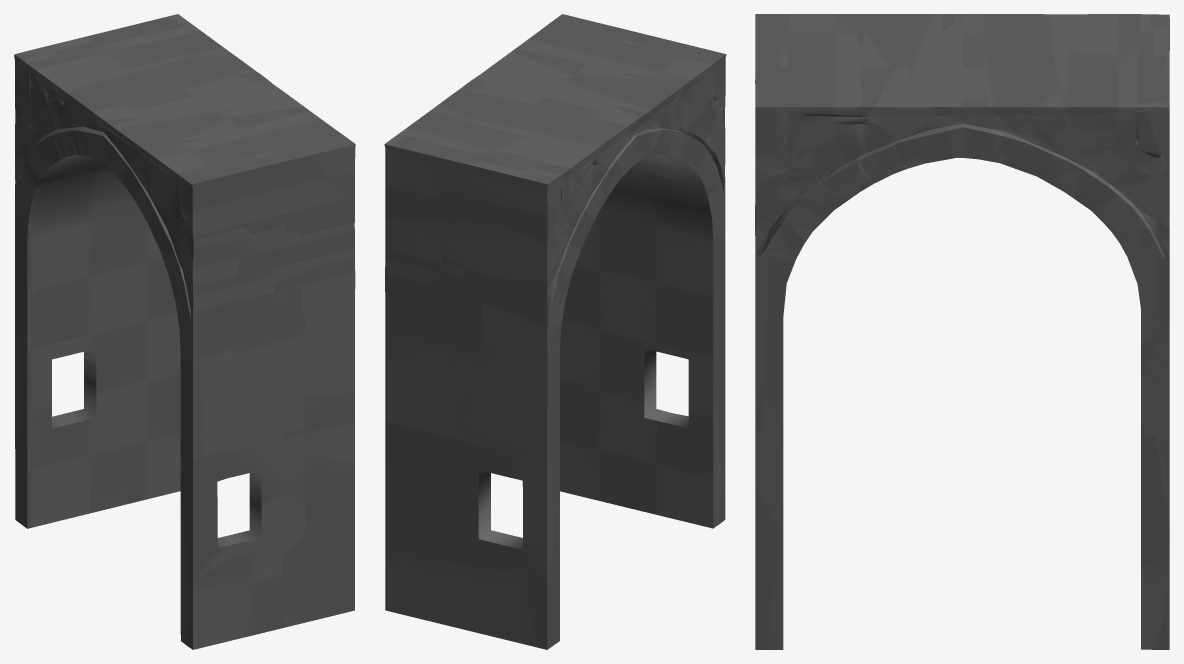
The model's file is SM_GongMen04_1269b7.glb.
3 renders of one model, left to right at view 1: azimuth 30°, elevation 25°; view 2: azimuth 150°, elevation 25°; view 3: azimuth 270°, elevation 25°, orthographic. The views are drawn at different scales.
Visible parts, largest first — view 1: SM_GongMen04; view 2: SM_GongMen04; view 3: SM_GongMen04.
Part boxes in pixels (left/top/right/bottom): SM_GongMen04: left=14, top=14, right=355, bottom=649; SM_GongMen04: left=384, top=14, right=726, bottom=649; SM_GongMen04: left=755, top=14, right=1169, bottom=649.
Bounding box in the file's own units: 1.78 × 4.82 × 3.34.
1 material, 1 textured.
